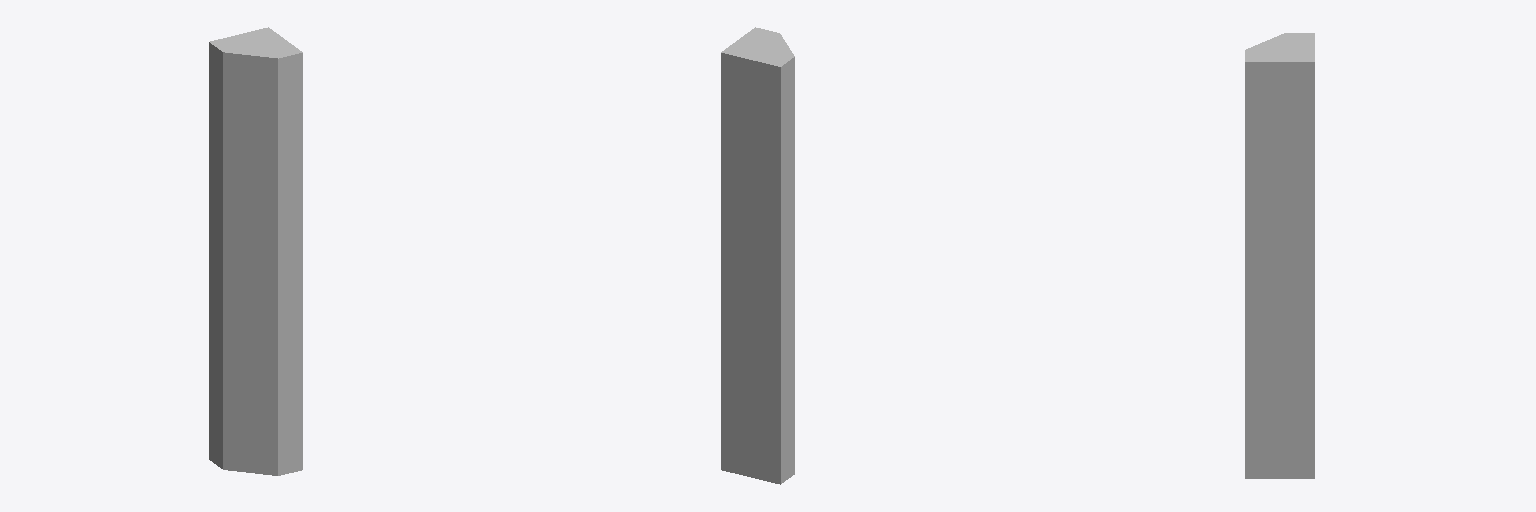
File: struct_wall_joint_main.obj
The picture shows the model from 3 angles: view 1: azimuth 30°, elevation 25°; view 2: azimuth 150°, elevation 25°; view 3: azimuth 270°, elevation 25°; orthographic projection.
Parts seen in each view (by area): view 1: struct_wall_joint_main; view 2: struct_wall_joint_main; view 3: struct_wall_joint_main.
Part boxes in pixels (left/top/right/bottom): struct_wall_joint_main: left=209, top=27, right=302, bottom=475; struct_wall_joint_main: left=721, top=27, right=794, bottom=484; struct_wall_joint_main: left=1245, top=33, right=1314, bottom=478.
Size of the model in its own units: 0.15 by 1 by 0.15.